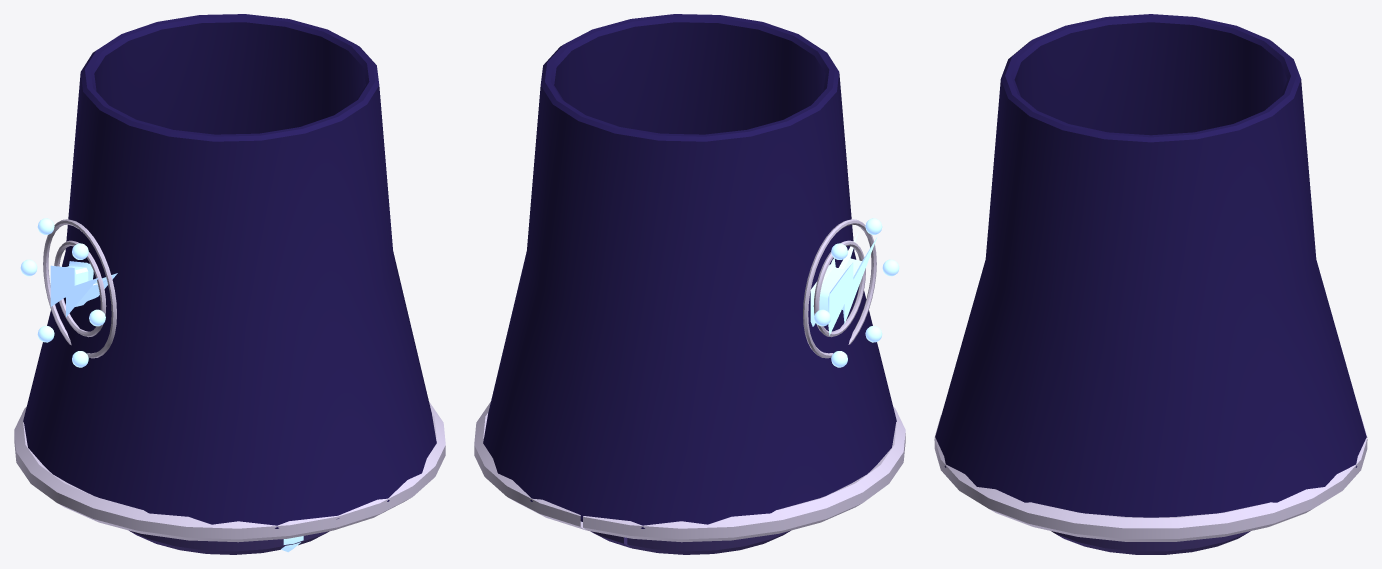
Rendered from asc_eclipse_oracle_gloves_R.glb.
3 renders of one model, left to right at view 1: azimuth 30°, elevation 25°; view 2: azimuth 150°, elevation 25°; view 3: azimuth 270°, elevation 25°, orthographic.
Visible parts, largest first — view 1: asc_eclipse_oracle_gloves; view 2: asc_eclipse_oracle_gloves; view 3: asc_eclipse_oracle_gloves.
Part boxes in pixels (x1,y1,x2,y2): asc_eclipse_oracle_gloves: (14, 14, 445, 554); asc_eclipse_oracle_gloves: (474, 14, 905, 554); asc_eclipse_oracle_gloves: (934, 14, 1367, 554).
Bounding box in the file's own units: 0.221 × 0.2464 × 0.2227.
